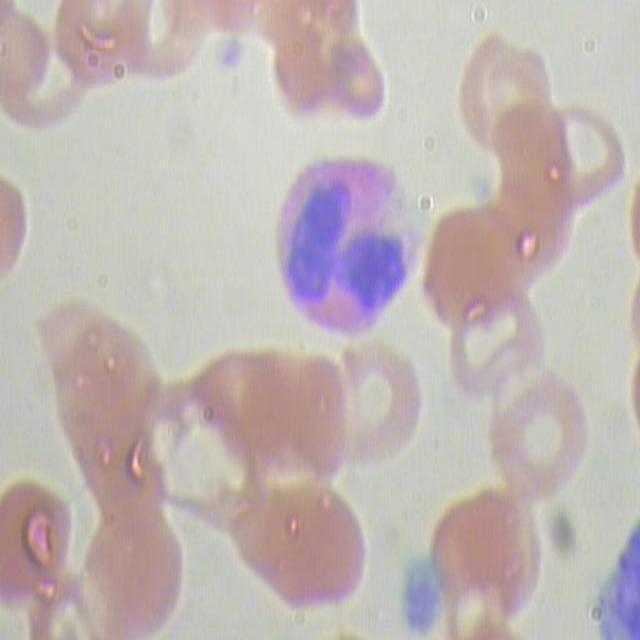Platelets: (396, 560, 440, 637), (210, 36, 252, 81)
RBC: (228, 478, 374, 622), (427, 488, 562, 639), (321, 325, 437, 484), (435, 285, 551, 444), (414, 188, 530, 347), (478, 371, 594, 529), (76, 494, 198, 638), (25, 293, 123, 439), (196, 347, 294, 492), (480, 170, 579, 306), (478, 98, 577, 234), (455, 34, 554, 170), (531, 90, 630, 226), (1, 469, 80, 624), (1, 26, 98, 142), (43, 0, 132, 93), (124, 0, 213, 93)
WBC: (261, 132, 424, 348)
